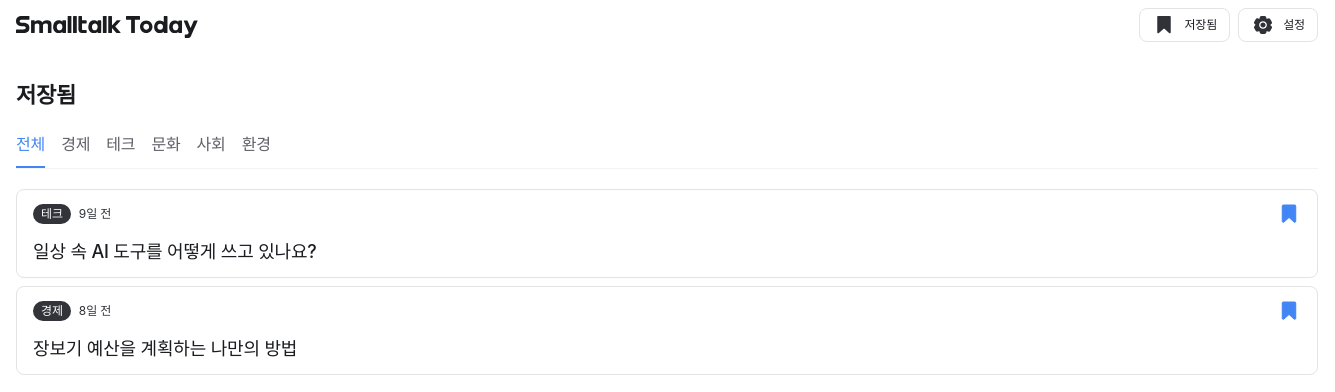
it: card screen integration › filters saved snapshots and navigates with SPA callbacks while removal stays independent
Click the tab "경제".
click(76, 144)  # box [61,120,90,168]
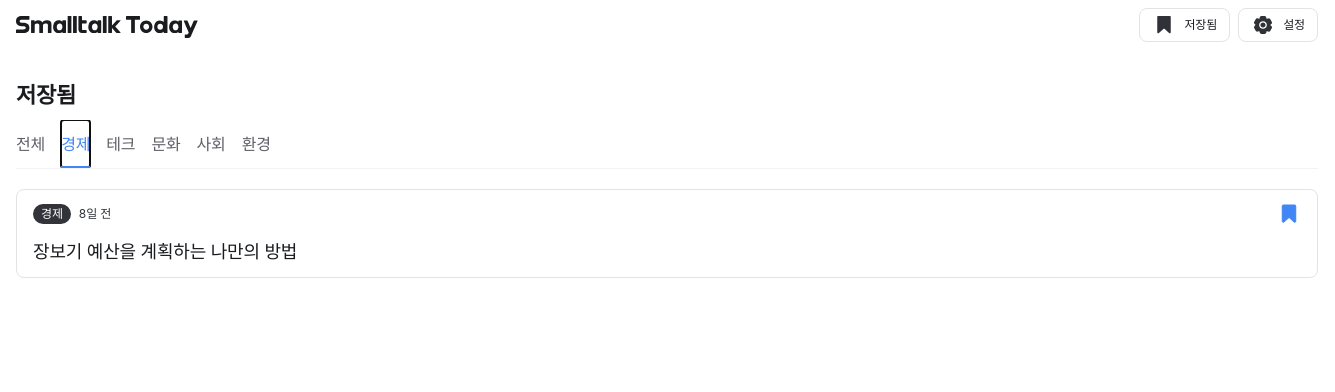
Click the link "장보기 예산을 계획하는 나만의 방법".
click(165, 252)  # box [33,241,297,262]
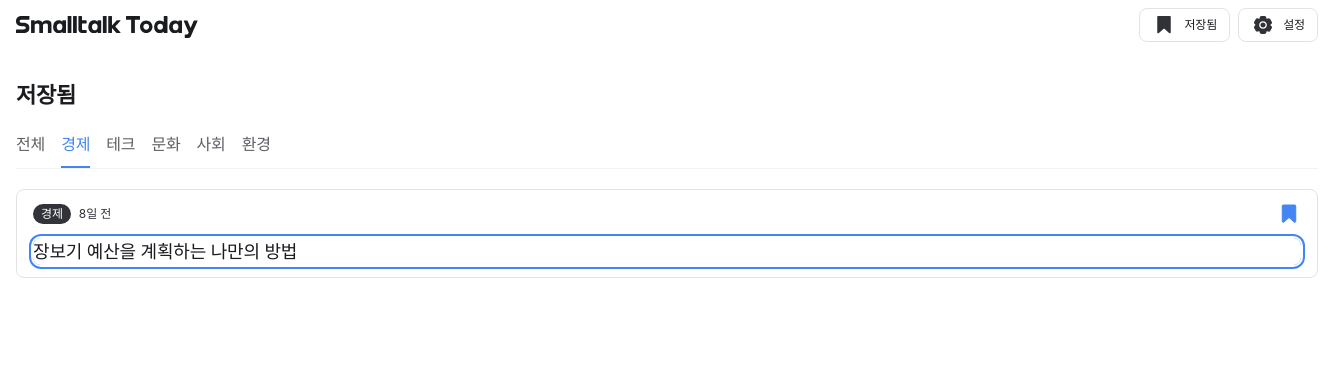
Click the button named "장보기 예산을 계획하는 나만의 방법 저장 해제".
click(1289, 214)  # box [1277,202,1301,226]
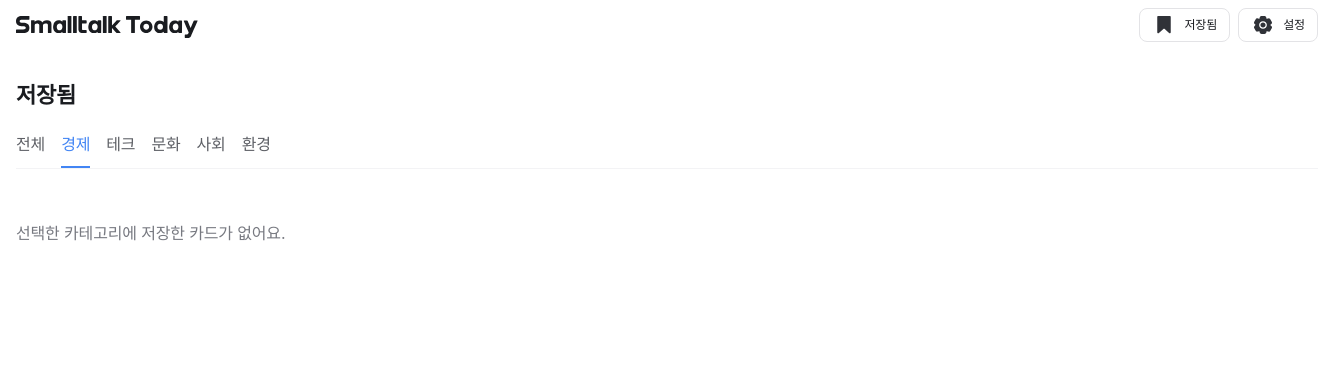
Expected: the text "선택한 카테고리에 저장한 카드가 없어요." is shown, [16,223,285,243]
Click the tab "전체".
click(31, 144)  # box [16,120,45,168]
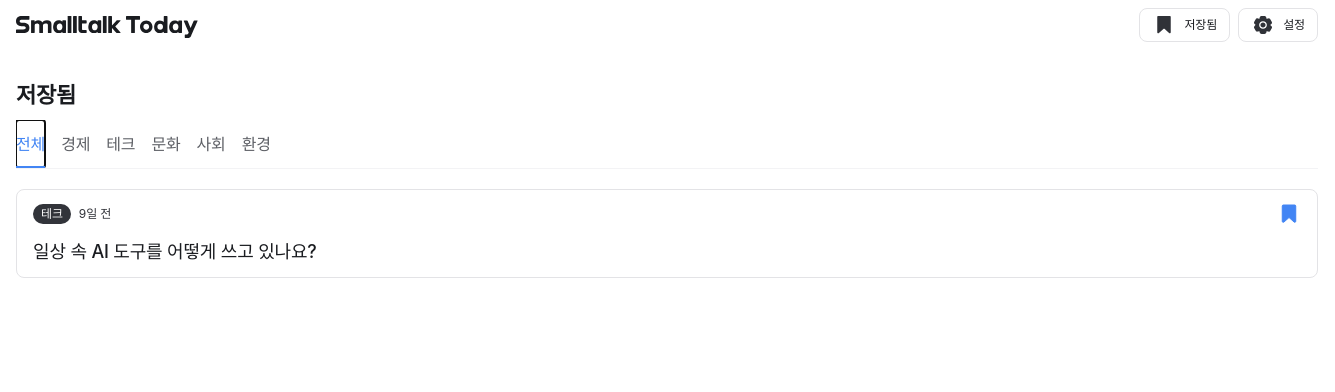
Expected: the element "일상 속 AI 도구를 어떻게 쓰고 있나요?" is shown, [16,189,1318,278]
